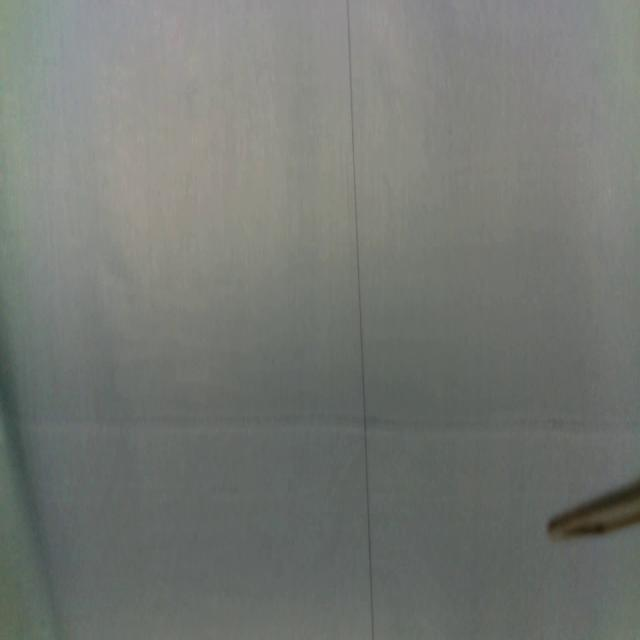color bleeding: (4, 401, 640, 454)
crease: (346, 3, 376, 640)
